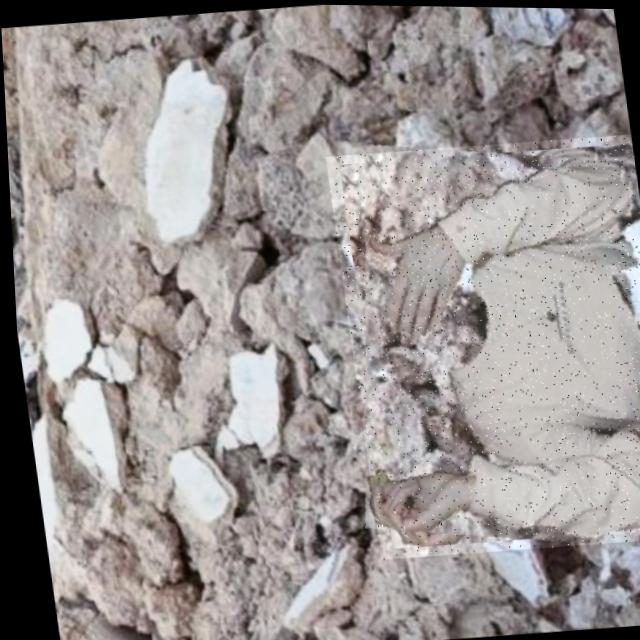Person in Rubble: (322, 128, 640, 560)
